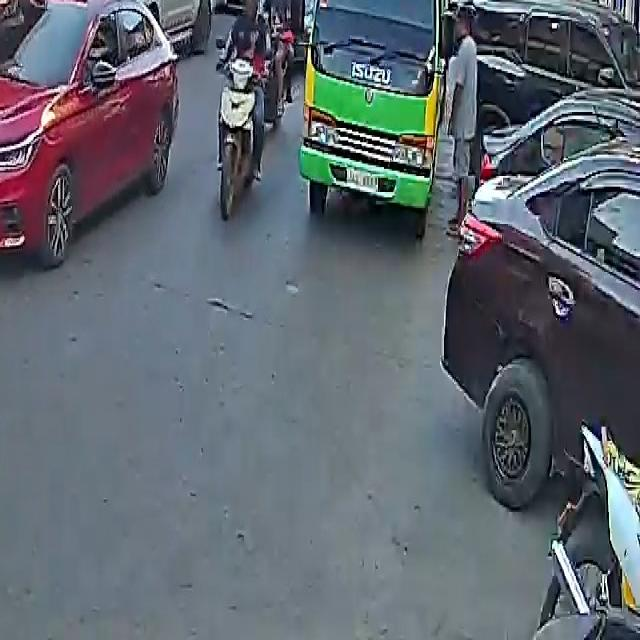car: (445, 86, 640, 524), (0, 0, 182, 268), (464, 0, 639, 130), (74, 0, 218, 52), (219, 0, 293, 16)
